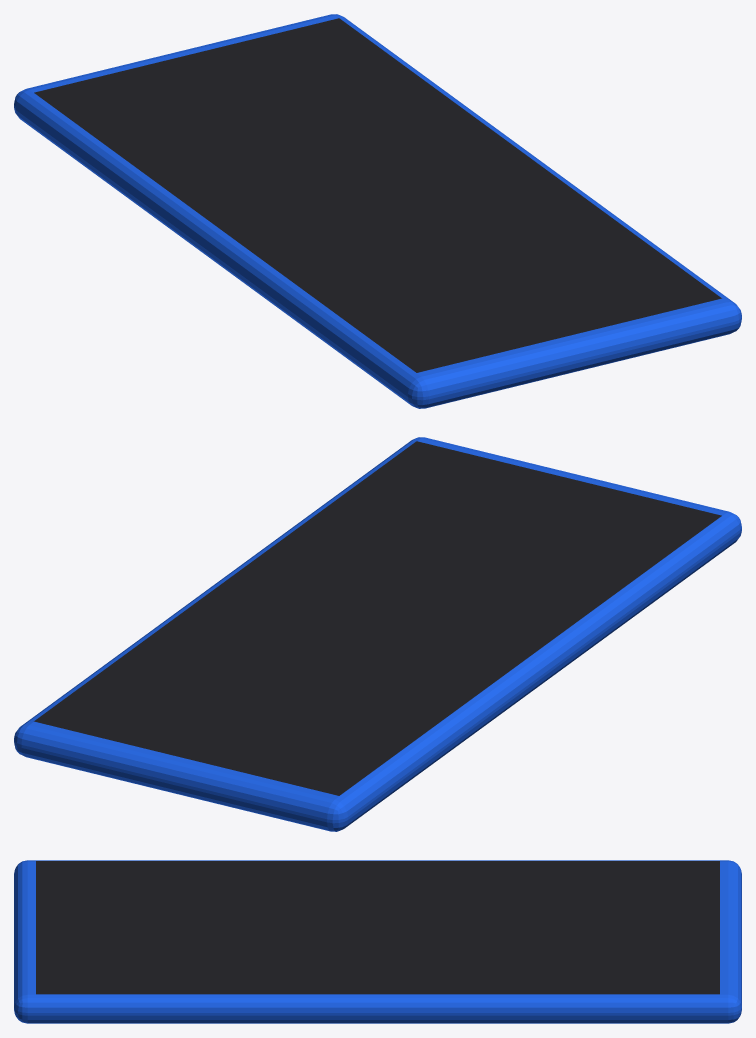
Rendered from Phone_888.glb.
3 views of the same model, one above another, from view 1: azimuth 30°, elevation 25°; view 2: azimuth 150°, elevation 25°; view 3: azimuth 270°, elevation 25° (orthographic). The views are drawn at different scales.
Visible parts, largest first — view 1: Phone_Screen, Phone_Body; view 2: Phone_Screen, Phone_Body; view 3: Phone_Screen, Phone_Body.
Boxes of the visible parts, x1,y1,x2,y2 form: Phone_Screen: (34,18,721,372); Phone_Body: (14,14,741,408); Phone_Screen: (34,441,721,795); Phone_Body: (14,437,741,831); Phone_Screen: (36,861,719,994); Phone_Body: (14,860,741,1023).
Bounding box in the file's own units: 0.0787 × 0.0071 × 0.1672.
